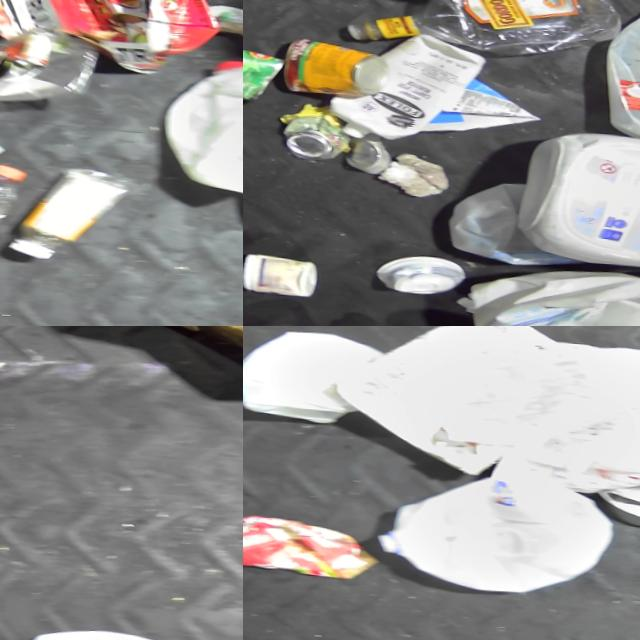can: (275, 35, 388, 99), (368, 250, 463, 297), (275, 104, 349, 163), (243, 251, 316, 297), (243, 33, 282, 102), (590, 479, 640, 529), (339, 131, 390, 175)
milk_jug: (366, 445, 613, 599), (243, 326, 387, 428), (446, 257, 640, 326), (152, 52, 243, 196), (595, 0, 640, 145)
non_white_jug: (509, 124, 640, 268), (0, 0, 223, 77)
plastic_bottle: (2, 162, 131, 264), (0, 157, 27, 251)
